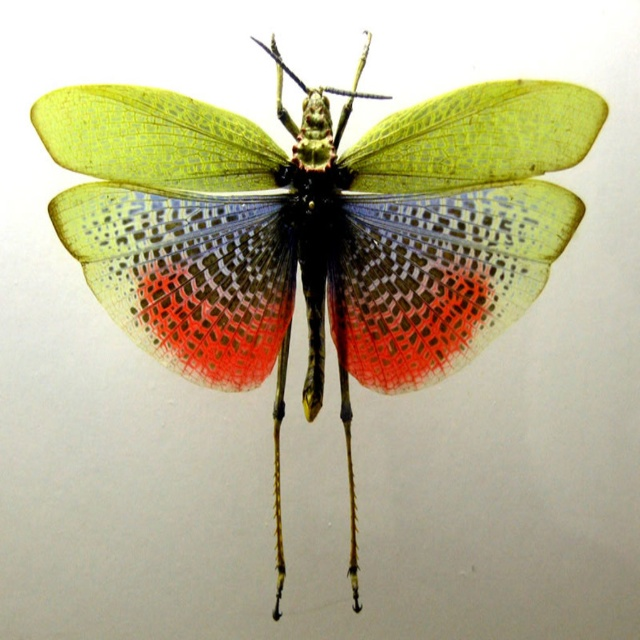Moths and butterflies: (30, 29, 613, 625)
